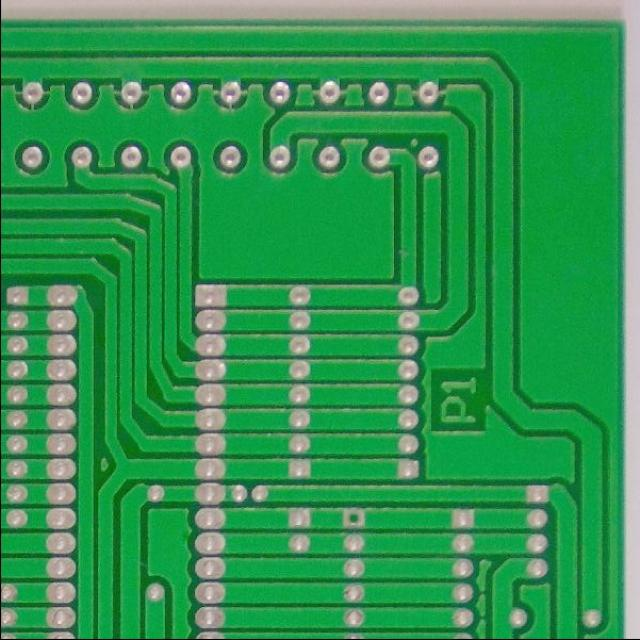missing_hole: (338, 508, 369, 532)
